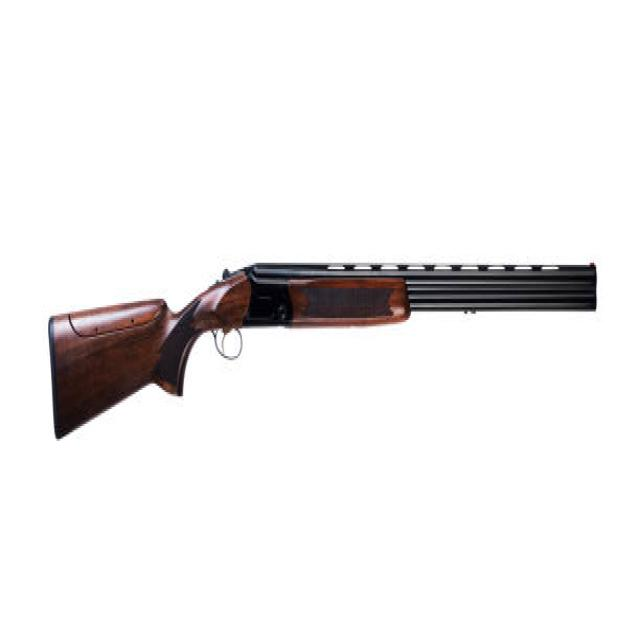rifle: (43, 245, 601, 456)
